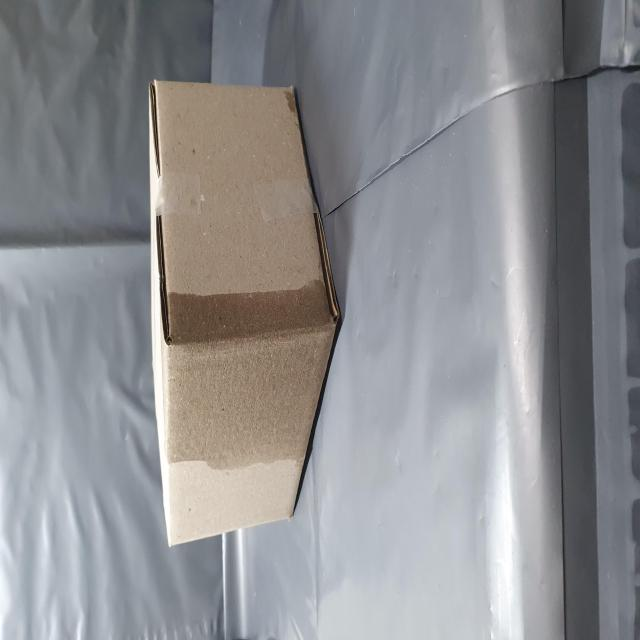wet: (85, 286, 208, 594)
